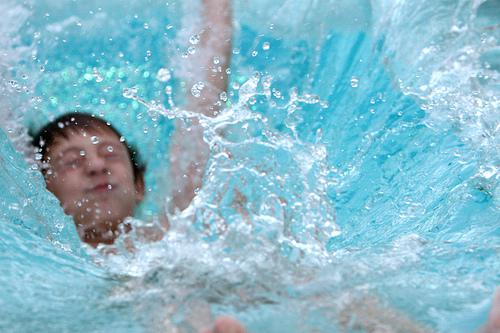human: (23, 106, 154, 246)
